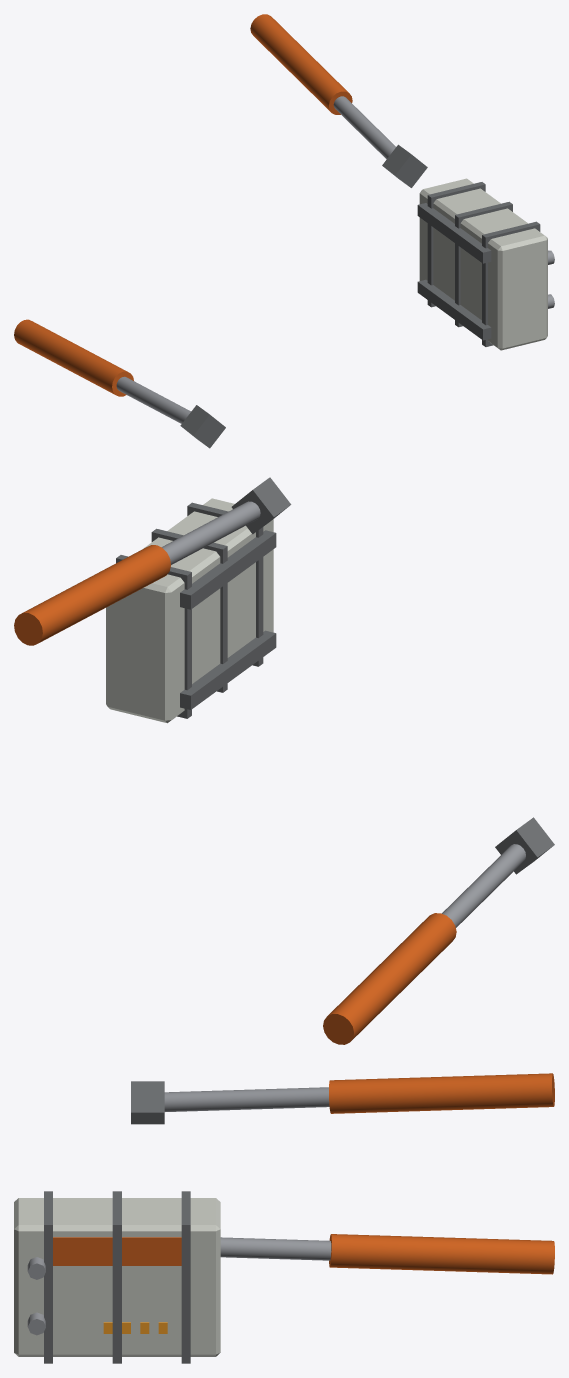
The model's file is u65m_field_ctl.obj.
3 views of the same model, one above another, from view 1: azimuth 30°, elevation 25°; view 2: azimuth 150°, elevation 25°; view 3: azimuth 270°, elevation 25° (orthographic). The views are drawn at different scales.
Parts seen in each view (by area): view 1: u65m_field_ctl; view 2: u65m_field_ctl; view 3: u65m_field_ctl.
Boxes of the visible parts, <box> form: u65m_field_ctl: <box>14,14,554,448</box>; u65m_field_ctl: <box>14,477,554,1044</box>; u65m_field_ctl: <box>14,1073,554,1363</box>.
Size of the model in its own units: 3.18 by 2.48 by 3.53.
